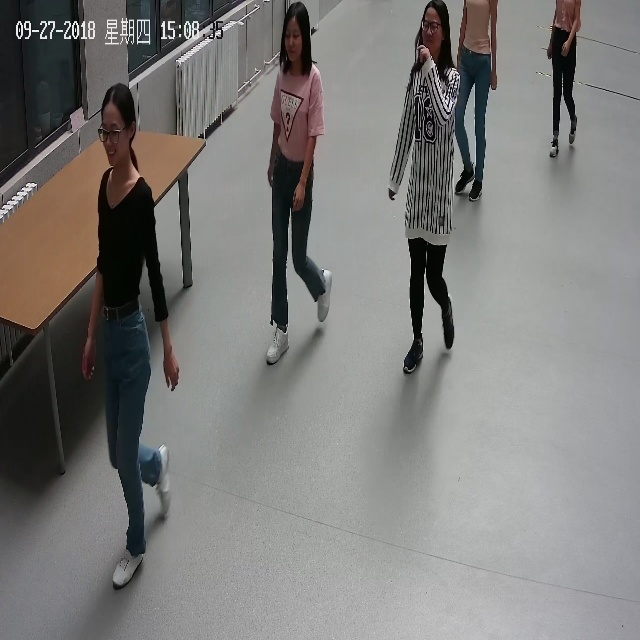head: (94, 79, 142, 169), (276, 2, 317, 71), (412, 0, 451, 58)
